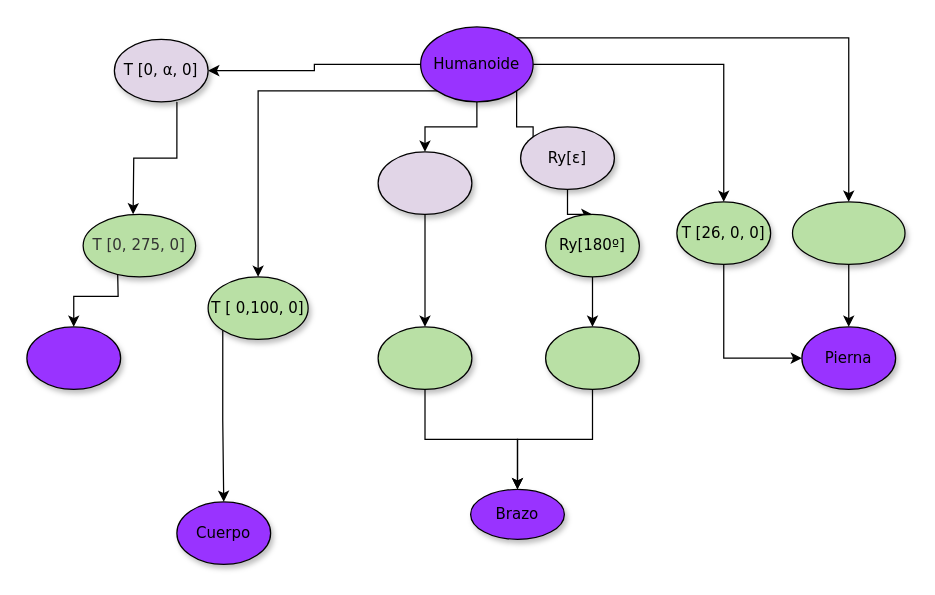
This 935x595 diagram has some shape labels left out. Each missing label, with the centre of its shape:
Cabeza: (74,359)
Ry[β]: (425,184)
T [-26, 0, 0]: (849,234)
T [-50, 100, 0]: (593,359)
T [50, 100, 0]: (425,359)
